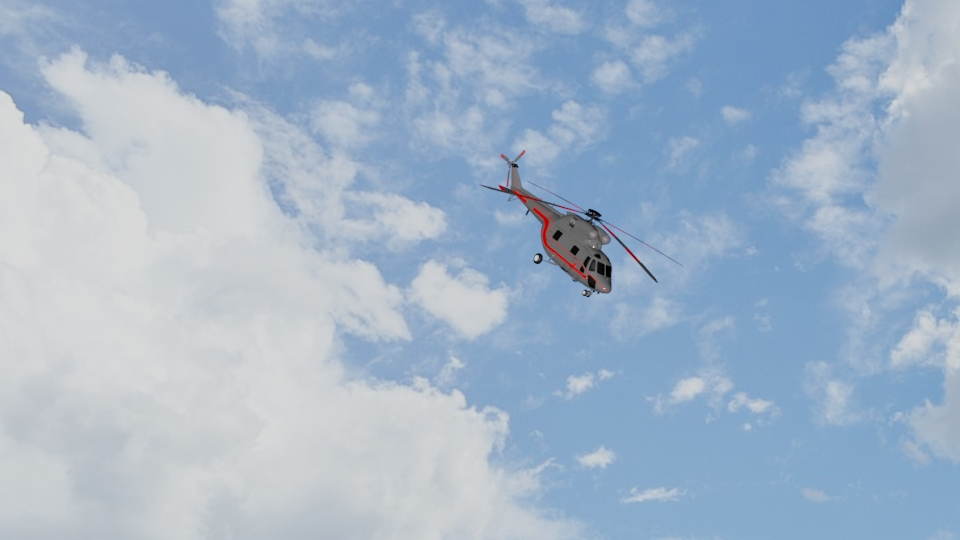heli: (476, 149, 677, 297)
